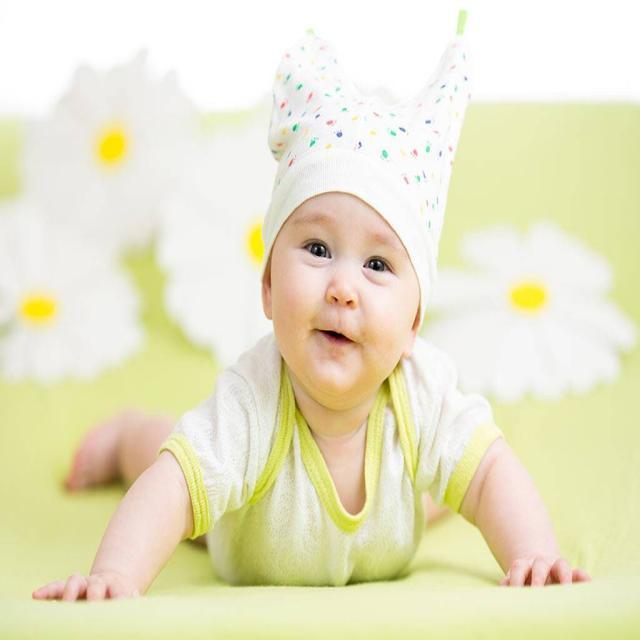non-dog: (33, 20, 590, 602)
